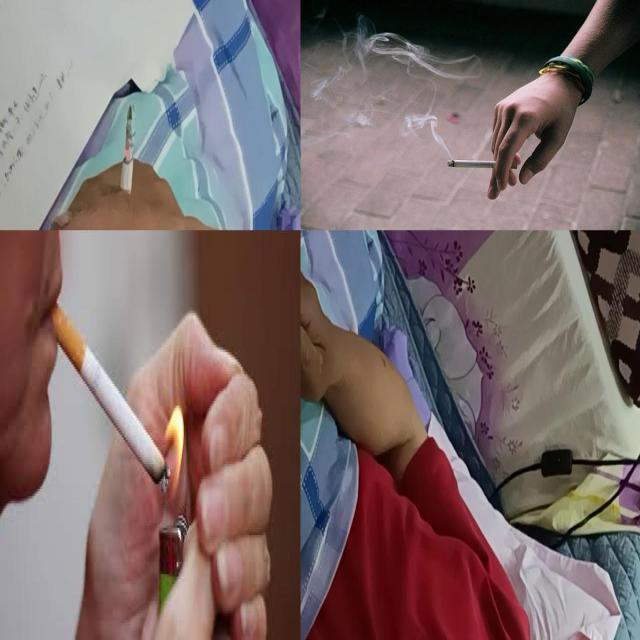smoking: (48, 303, 170, 492), (113, 105, 136, 229), (446, 158, 520, 170)
